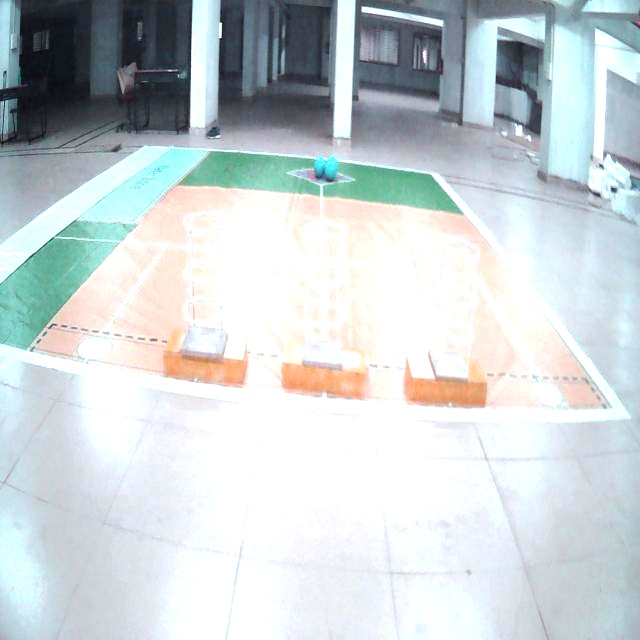silo: (184, 210, 227, 347), (439, 234, 479, 381), (308, 220, 348, 364)
